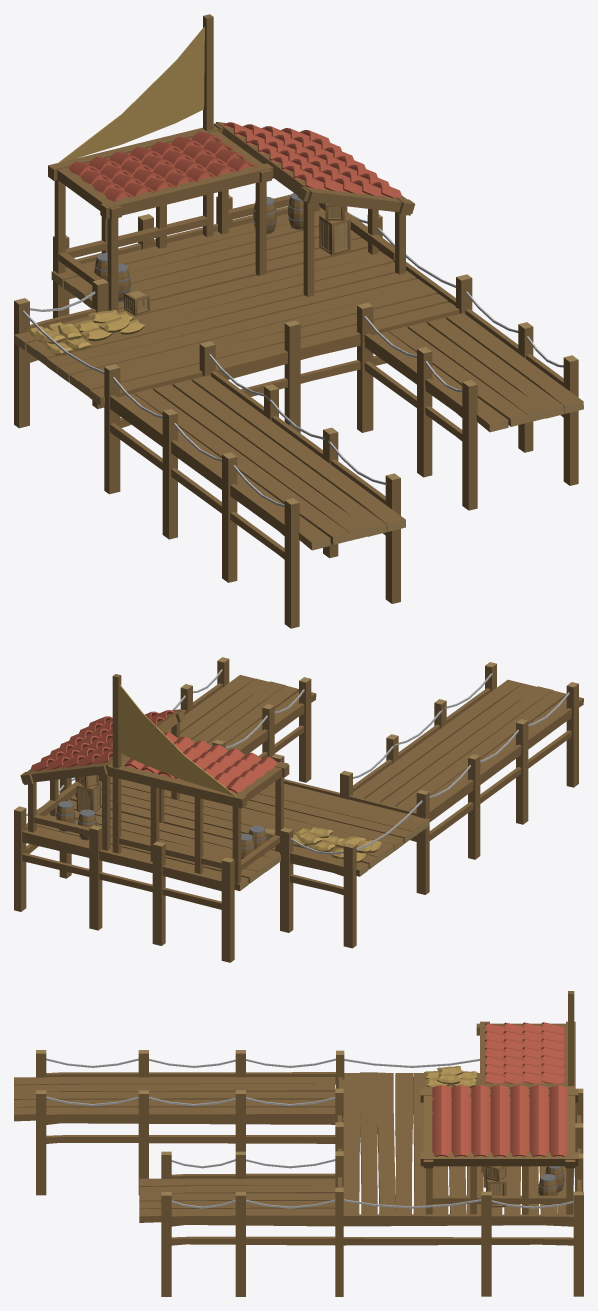
Rendered from Port_SecondAge_Level1.glb.
The picture shows the model from 3 angles, top to bottom: view 1: azimuth 30°, elevation 25°; view 2: azimuth 150°, elevation 25°; view 3: azimuth 270°, elevation 25°; orthographic projection. The views are drawn at different scales.
Visible parts, largest first — view 1: Port_SecondAge_Level1; view 2: Port_SecondAge_Level1; view 3: Port_SecondAge_Level1.
Part boxes in pixels (x1,y1,x2,y2): Port_SecondAge_Level1: (14,14,583,628); Port_SecondAge_Level1: (14,657,583,962); Port_SecondAge_Level1: (14,991,583,1296).
Bounding box in the file's own units: 1.75 × 1.43 × 2.88.
